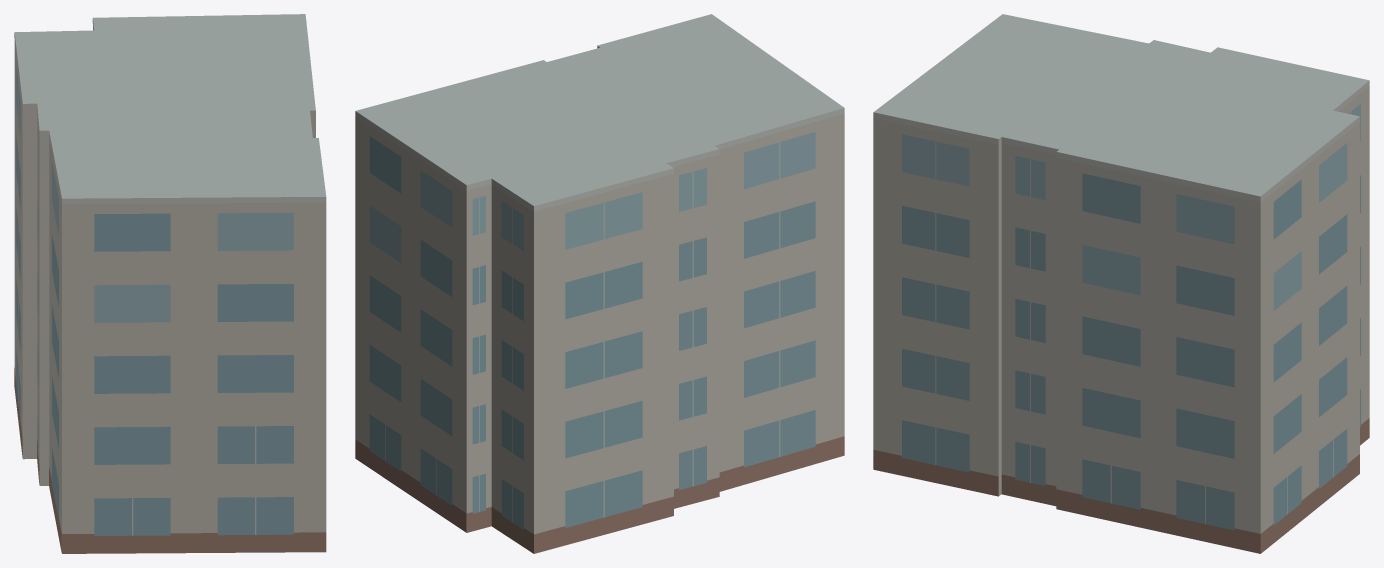
The model's file is survey-upis-32554850.glb.
3 renders of one model, left to right at view 1: azimuth 30°, elevation 25°; view 2: azimuth 150°, elevation 25°; view 3: azimuth 270°, elevation 25°, orthographic. The views are drawn at different scales.
Visible parts, largest first — view 1: survey-upis-32554850.tmp; view 2: survey-upis-32554850.tmp; view 3: survey-upis-32554850.tmp.
Boxes of the visible parts, x1=… form: survey-upis-32554850.tmp: x1=14, y1=14, x2=326, y2=553; survey-upis-32554850.tmp: x1=355, y1=14, x2=844, y2=553; survey-upis-32554850.tmp: x1=873, y1=14, x2=1369, y2=553.
Bounding box in the file's own units: 16.71 × 15.25 × 19.2.
